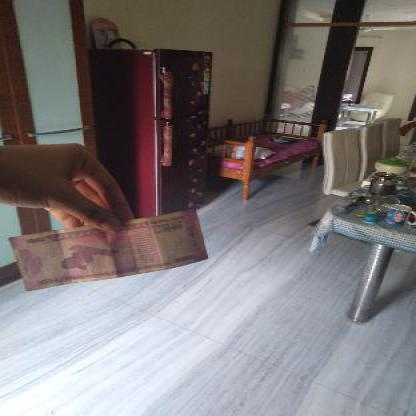New2000Back: (11, 216, 208, 288)
